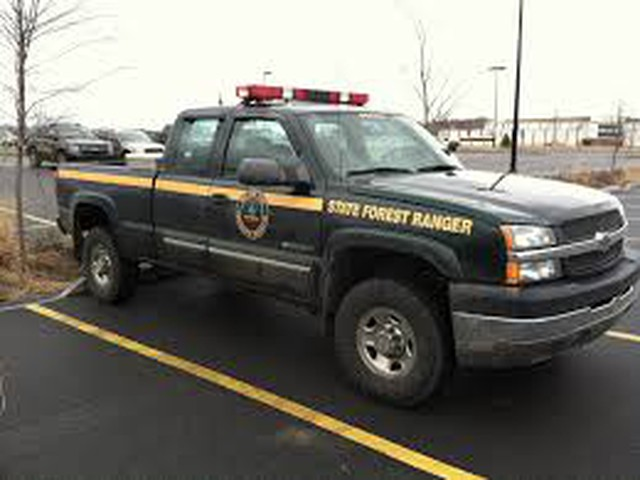Vehicle: (48, 84, 636, 408)
